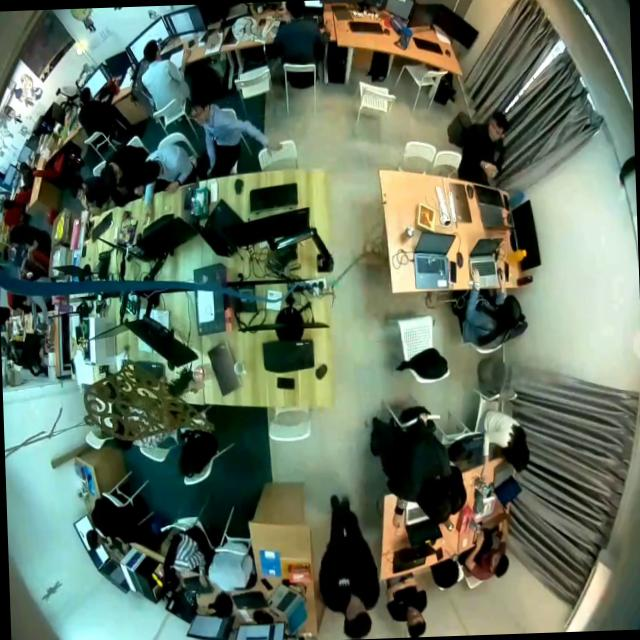employee_tag: (337, 577, 350, 587)
